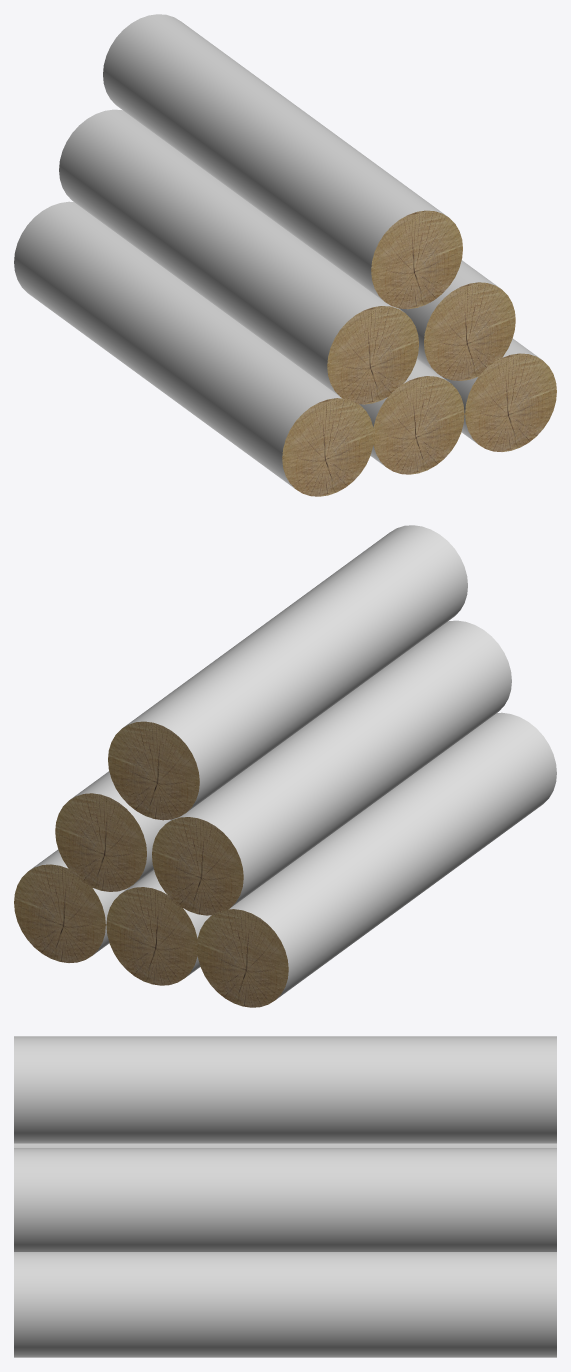
Rendered from woods2.fbx.
The picture shows the model from 3 angles, top to bottom: view 1: azimuth 30°, elevation 25°; view 2: azimuth 150°, elevation 25°; view 3: azimuth 270°, elevation 25°; orthographic projection.
Parts seen in each view (by area): view 1: Cylinder.005, Cylinder.004, Cylinder, Cylinder.003, Cylinder.002, Cylinder.001; view 2: Cylinder.005, Cylinder.004, Cylinder, Cylinder.003, Cylinder.002, Cylinder.001; view 3: Cylinder.005, Cylinder.002, Cylinder.003, Cylinder.004.
Boxes of the visible parts, left/top/right/bottom form: Cylinder.005: left=103, top=14, right=462, bottom=309; Cylinder.004: left=59, top=109, right=418, bottom=404; Cylinder: left=14, top=201, right=373, bottom=496; Cylinder.003: left=400, top=260, right=515, bottom=380; Cylinder.002: left=442, top=338, right=556, bottom=451; Cylinder.001: left=359, top=359, right=464, bottom=474; Cylinder.005: left=108, top=525, right=467, bottom=820; Cylinder.004: left=152, top=620, right=511, bottom=915; Cylinder: left=197, top=712, right=556, bottom=1007; Cylinder.003: left=55, top=771, right=170, bottom=891; Cylinder.002: left=14, top=849, right=128, bottom=962; Cylinder.001: left=106, top=870, right=211, bottom=985; Cylinder.005: left=14, top=1036, right=556, bottom=1143; Cylinder.002: left=14, top=1252, right=556, bottom=1357; Cylinder.003: left=14, top=1148, right=556, bottom=1251; Cylinder.004: left=14, top=1143, right=556, bottom=1147.
Bounding box in the file's own units: 169 × 154 × 287.
Materials: 2 (1 with a texture image).
